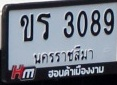txt02: (20, 12, 35, 43)
txt30: (36, 12, 53, 42)
